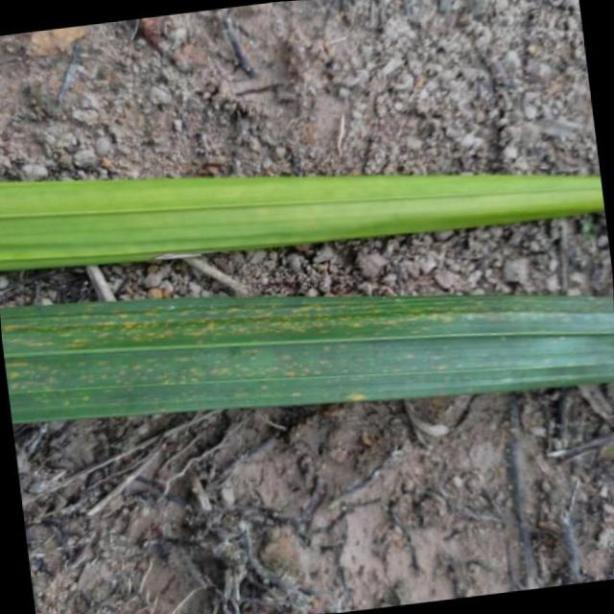nitrogen: (0, 286, 614, 424), (0, 166, 614, 275)
